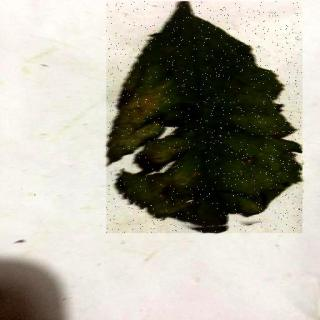Red Leaf Spot: (108, 3, 304, 235)
